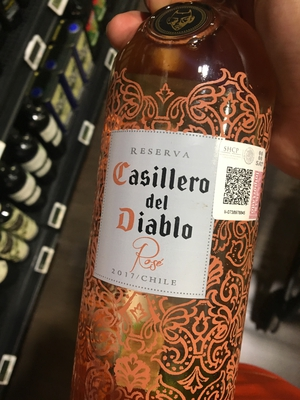casillero del diablo rose: (82, 19, 298, 400)
